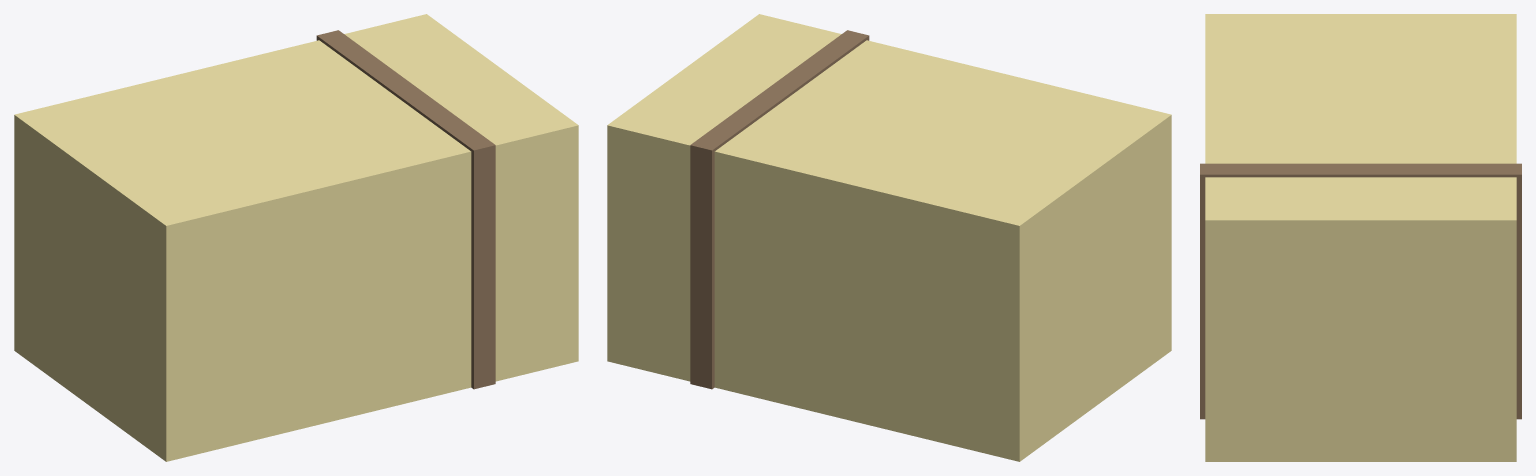
File: Prop_Live_AMF_HayBale_V6.glb
The picture shows the model from 3 angles, left to right: view 1: azimuth 30°, elevation 25°; view 2: azimuth 150°, elevation 25°; view 3: azimuth 270°, elevation 25°; orthographic projection. The views are drawn at different scales.
Parts seen in each view (by area): view 1: Prop_Live_AMF_HayBale_V6; view 2: Prop_Live_AMF_HayBale_V6; view 3: Prop_Live_AMF_HayBale_V6.
Boxes of the visible parts, left/top/right/bottom form: Prop_Live_AMF_HayBale_V6: left=14, top=14, right=578, bottom=461; Prop_Live_AMF_HayBale_V6: left=607, top=14, right=1171, bottom=461; Prop_Live_AMF_HayBale_V6: left=1200, top=14, right=1521, bottom=461.
Size of the model in its own units: 0.9396 by 0.52 by 0.62.
